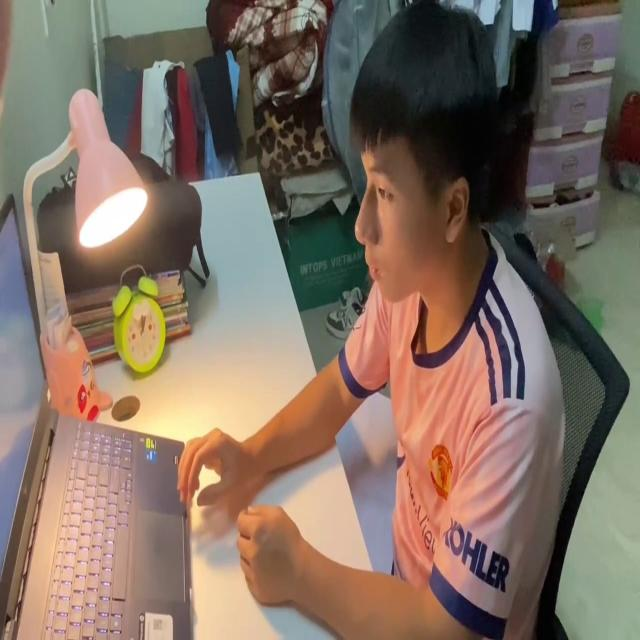book: (334, 391, 399, 577)
laptop: (0, 188, 192, 640)
student: (176, 0, 566, 640)
